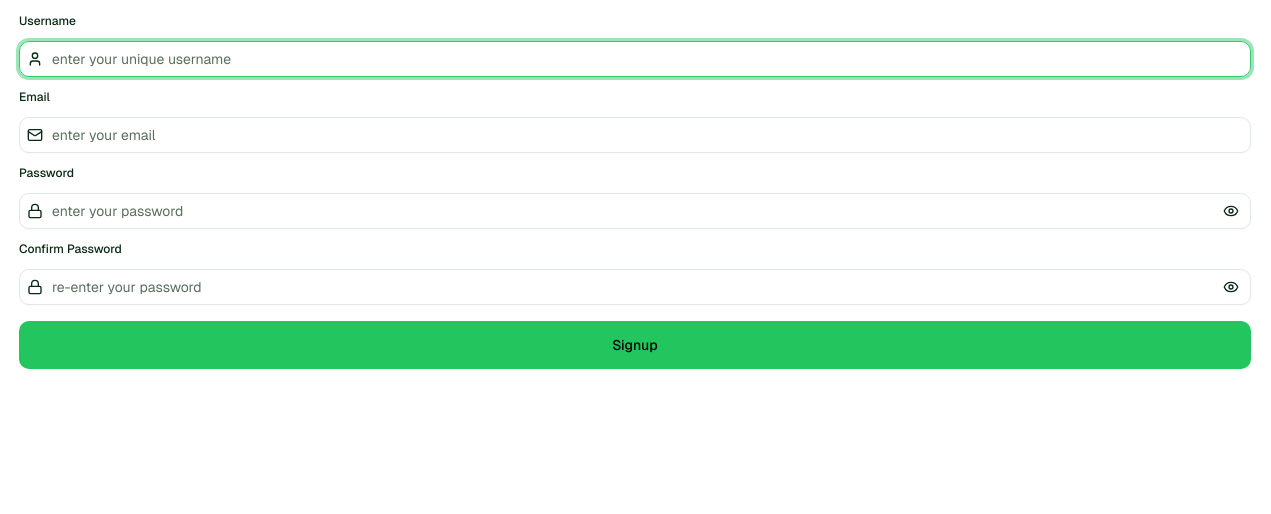
Scenario: SignupForm › Form Validation › should show name error when full name is empty on submit
The image size is (1271, 514).
Click the button with test id "signup-submit-button". click: (635, 345)
box: [19,321,1251,369]
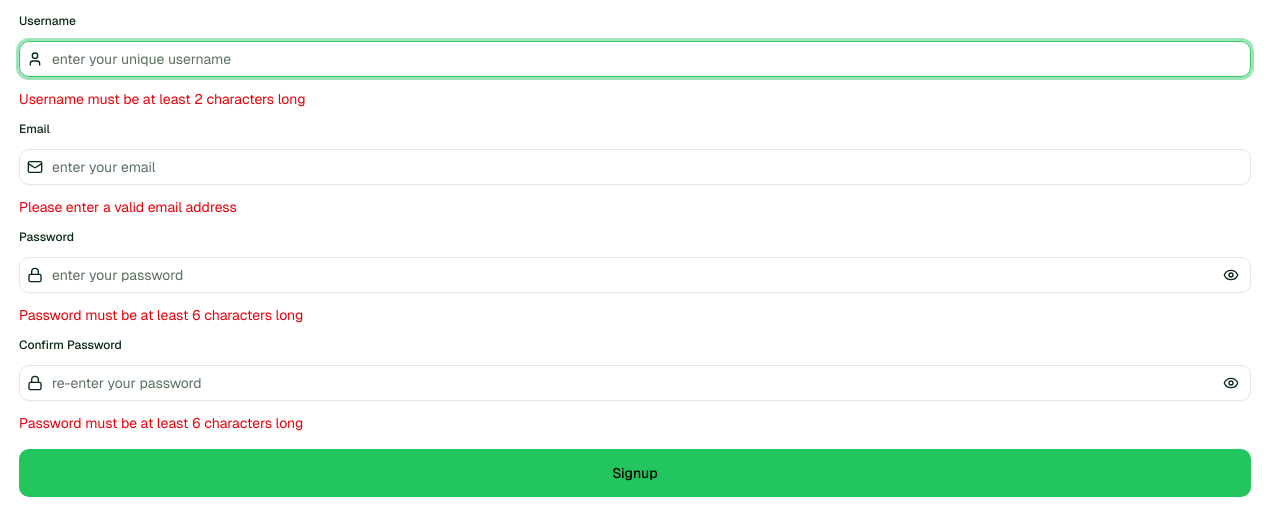
Now the message with test id "signup-name-error" shows "Username must be at least", box [19,90,306,108]
